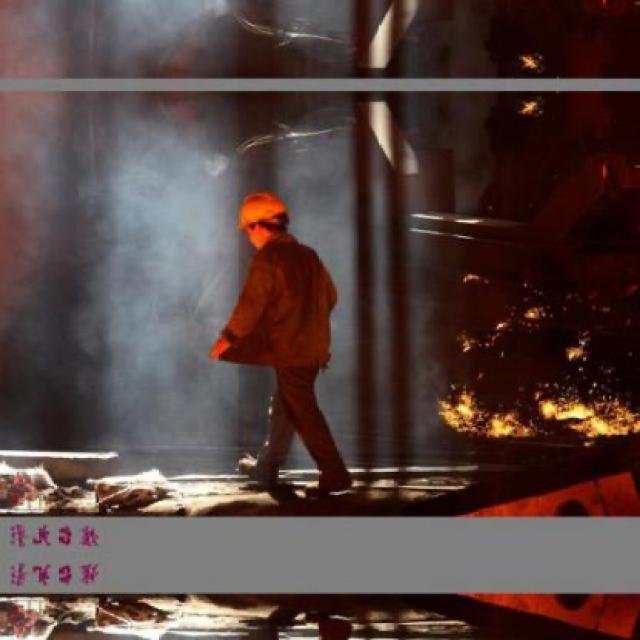helmet: (237, 190, 292, 248)
